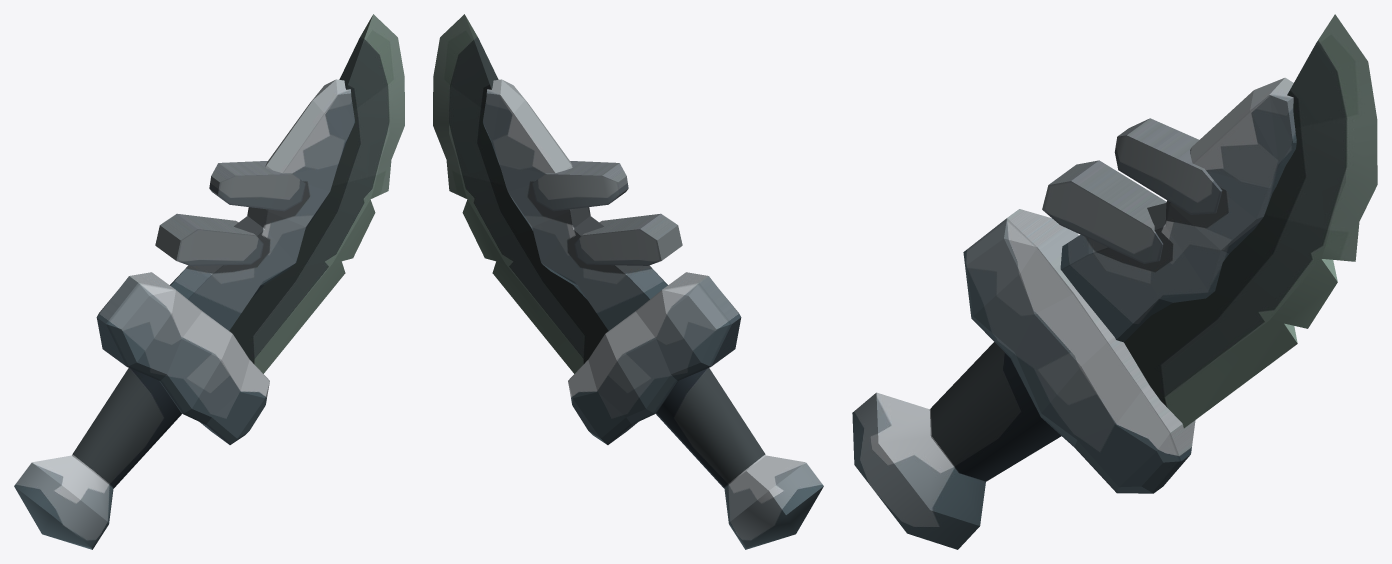
Rendered from Stone_02.FBX.
3 renders of one model, left to right at view 1: azimuth 30°, elevation 25°; view 2: azimuth 150°, elevation 25°; view 3: azimuth 330°, elevation 25°, orthographic. The views are drawn at different scales.
Parts seen in each view (by area): view 1: Stone_02; view 2: Stone_02; view 3: Stone_02.
Part boxes in pixels (x1,y1,x2,y2): Stone_02: (14,14,404,549); Stone_02: (433,14,823,549); Stone_02: (852,14,1377,549).
Bounding box in the file's own units: 62.73 × 71.69 × 10.37.
